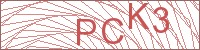3: (151, 6, 171, 34)
C: (101, 17, 124, 45)
K: (127, 1, 152, 32)
P: (74, 17, 97, 47)
